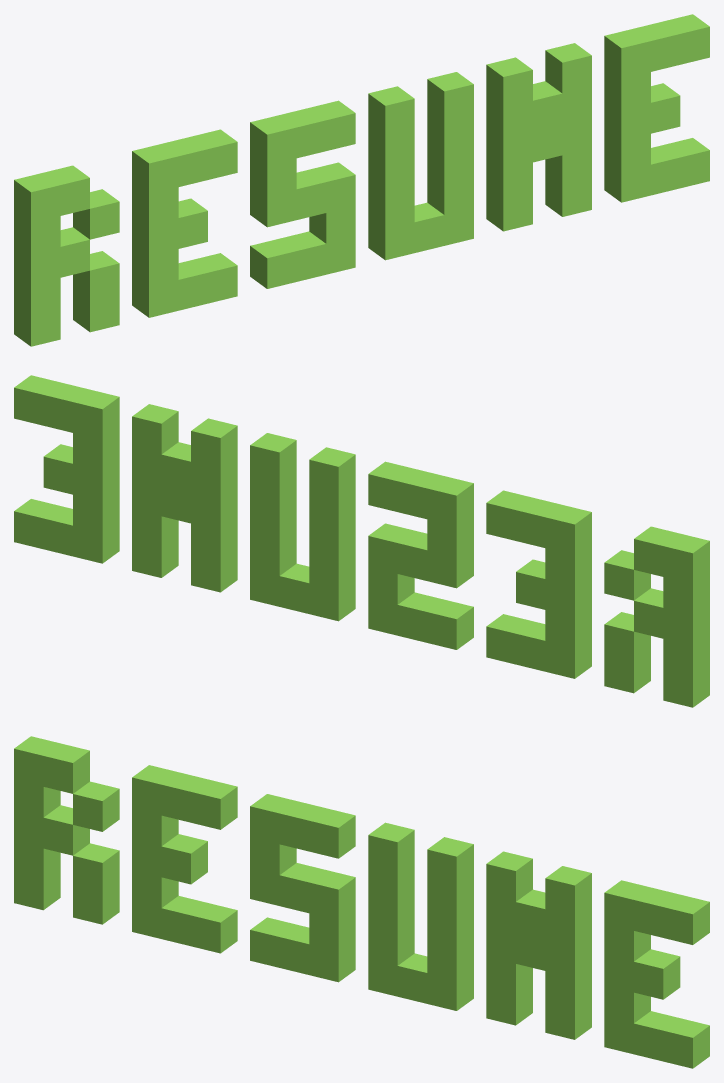
Rendered from ResumeButton.obj.
The picture shows the model from 3 angles, top to bottom: view 1: azimuth 30°, elevation 25°; view 2: azimuth 150°, elevation 25°; view 3: azimuth 330°, elevation 25°; orthographic projection.
Visible parts, largest first — view 1: ResumeButton; view 2: ResumeButton; view 3: ResumeButton.
Part boxes in pixels (x1,y1,x2,y2): ResumeButton: [14, 14, 709, 346]; ResumeButton: [14, 375, 709, 707]; ResumeButton: [14, 736, 709, 1068].
Bounding box in the file's own units: 23 × 5 × 1.
Materials: 1 (1 with a texture image).
